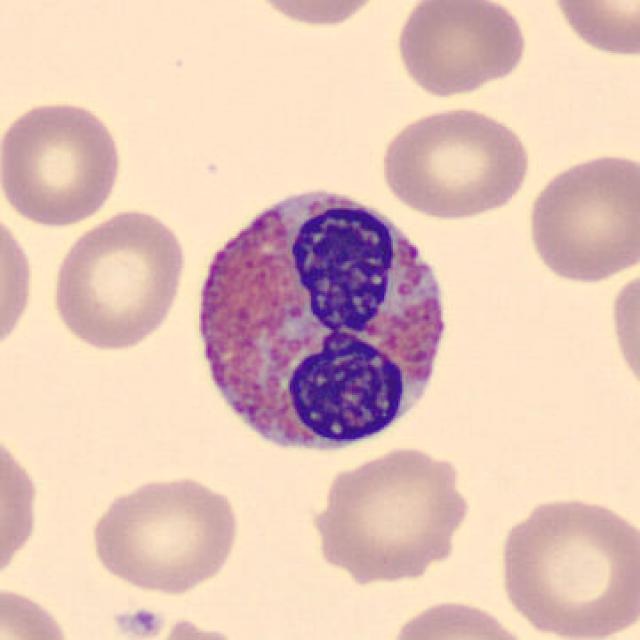Eosinophil: (180, 171, 464, 465)
Platelets: (114, 605, 165, 636)
RBC: (306, 442, 474, 584), (492, 490, 638, 640), (46, 206, 190, 354), (85, 471, 244, 596), (375, 102, 535, 222), (0, 95, 126, 229), (522, 146, 636, 288), (391, 0, 529, 100), (0, 423, 43, 591), (382, 596, 537, 640), (0, 201, 37, 359), (544, 0, 636, 60), (604, 259, 640, 402), (242, 0, 389, 30), (110, 610, 256, 640), (0, 583, 74, 640)
